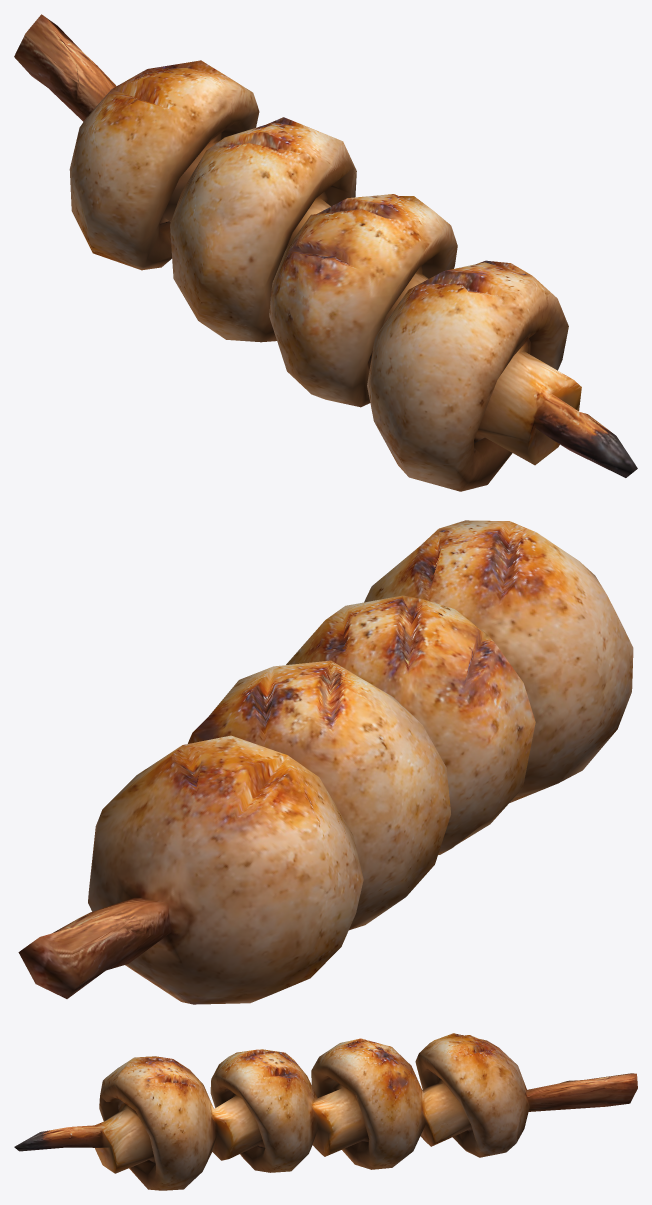
The model's file is mushroom_skewer_source.glb.
The picture shows the model from 3 angles, top to bottom: view 1: azimuth 30°, elevation 25°; view 2: azimuth 150°, elevation 25°; view 3: azimuth 270°, elevation 25°; orthographic projection. The views are drawn at different scales.
Parts seen in each view (by area): view 1: tripo_node_cd017d00-eeb8-4734-b358-4b7057d4f77c; view 2: tripo_node_cd017d00-eeb8-4734-b358-4b7057d4f77c; view 3: tripo_node_cd017d00-eeb8-4734-b358-4b7057d4f77c.
Part boxes in pixels (left/top/right/bottom): tripo_node_cd017d00-eeb8-4734-b358-4b7057d4f77c: left=14, top=14, right=637, bottom=491; tripo_node_cd017d00-eeb8-4734-b358-4b7057d4f77c: left=18, top=520, right=633, bottom=1004; tripo_node_cd017d00-eeb8-4734-b358-4b7057d4f77c: left=14, top=1033, right=637, bottom=1190.
Bounding box in the file's own units: 0.2528 × 0.2382 × 0.9843.
Materials: 1 (1 with a texture image).
